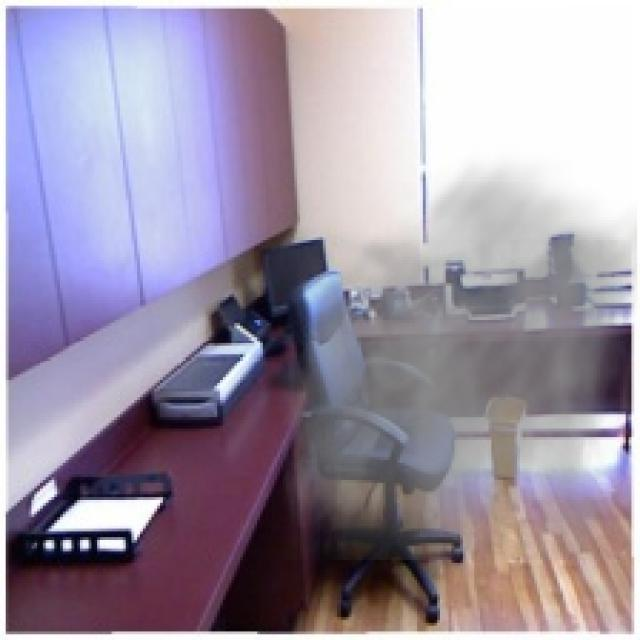Smoke: (282, 145, 638, 560)
